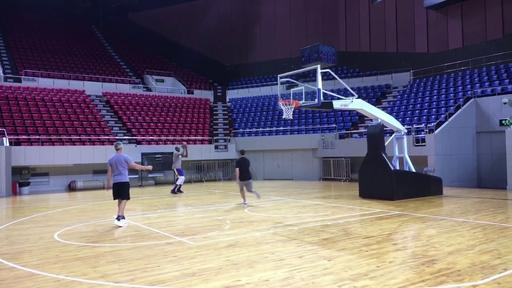ball: (170, 144, 188, 194)
human: (106, 141, 152, 228), (236, 148, 260, 206)
rim: (278, 100, 300, 119)
